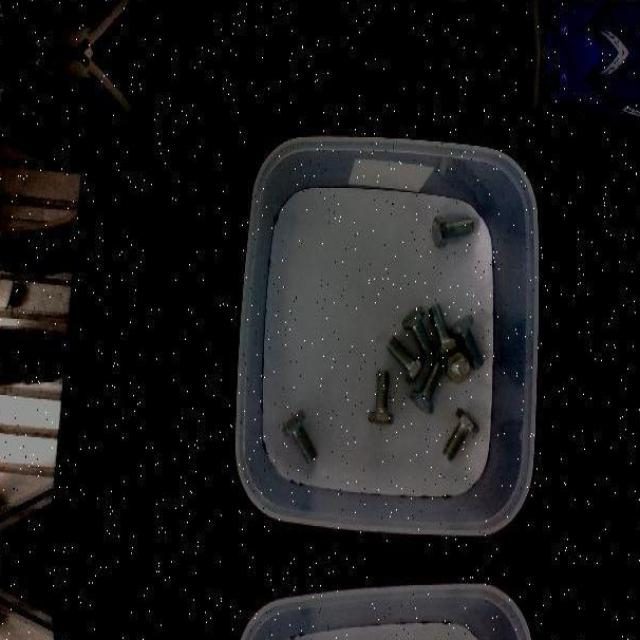screw: (386, 334, 426, 383), (281, 409, 317, 462), (450, 312, 484, 368), (444, 407, 479, 460), (401, 305, 435, 359), (410, 361, 444, 415), (430, 303, 459, 357), (367, 369, 393, 425), (433, 216, 474, 250), (445, 352, 470, 384)
